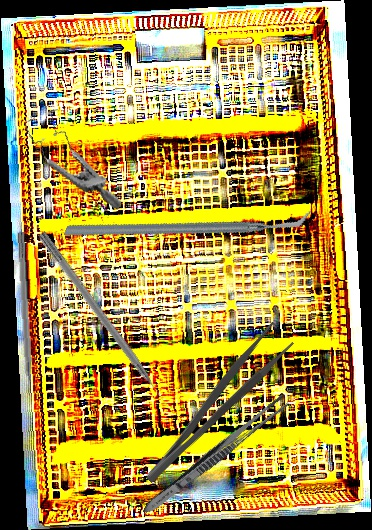Chopper: (63, 128, 312, 319)
Dressing Forceps: (130, 320, 297, 488), (138, 390, 293, 520)
Pusher: (35, 230, 174, 414), (14, 232, 35, 406)
Speculum: (9, 101, 141, 210)
